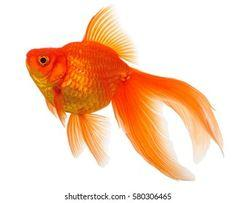goldfish: (20, 12, 213, 172)
